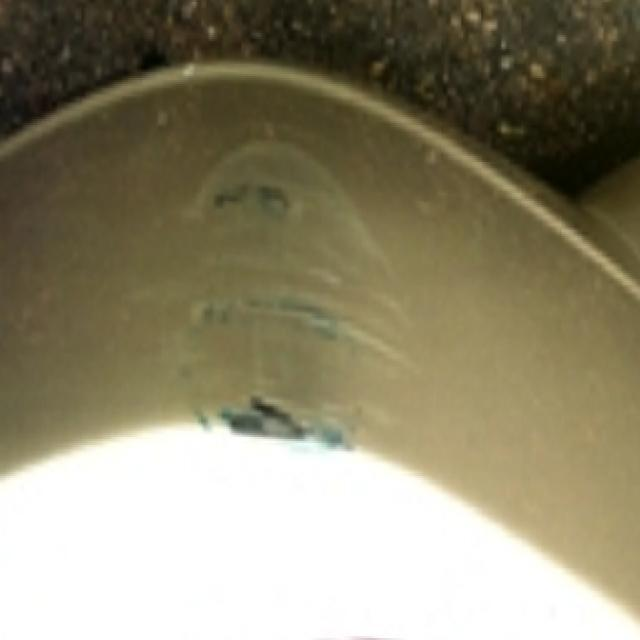scratch: (162, 120, 407, 438)
